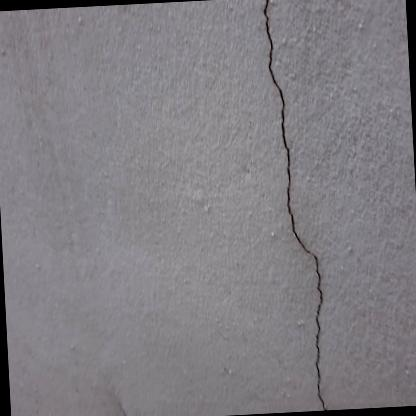crack: (263, 0, 326, 410)
